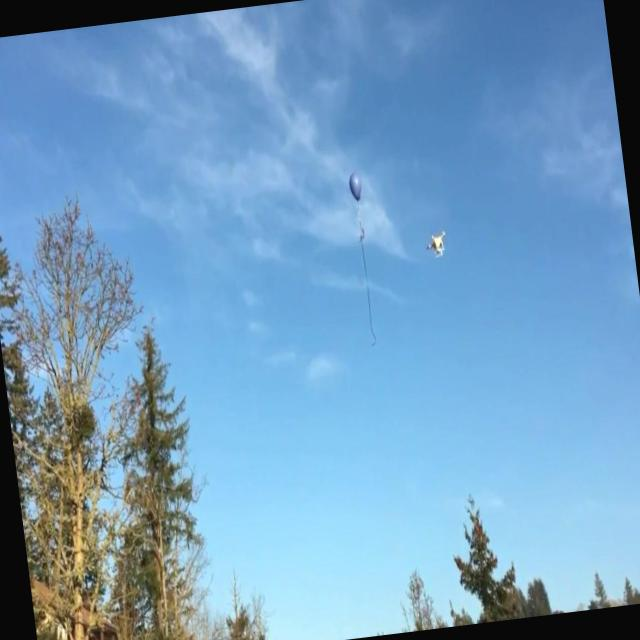drone: (423, 228, 451, 263)
